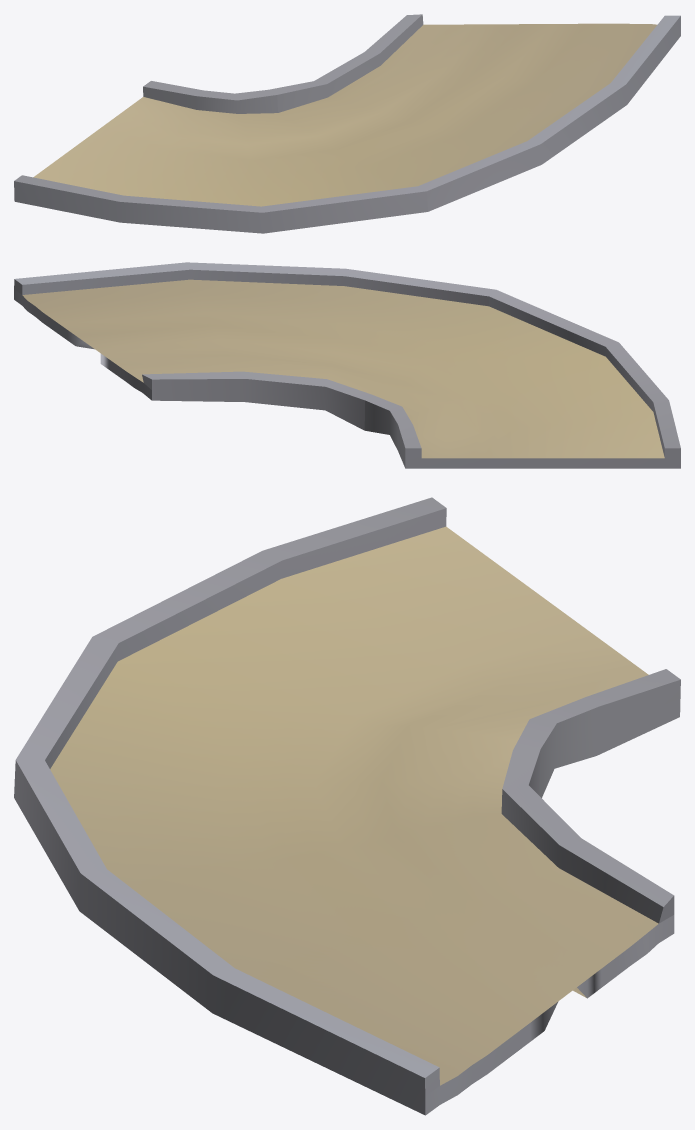
Rendered from sidewalk_05.fbx.
3 views of the same model, one above another, from view 1: azimuth 30°, elevation 25°; view 2: azimuth 150°, elevation 25°; view 3: azimuth 270°, elevation 25° (orthographic). The views are drawn at different scales.
Visible parts, largest first — view 1: sidewalk_04; view 2: sidewalk_04; view 3: sidewalk_04.
Boxes of the visible parts, box(x1,y1,x2,y2) form: sidewalk_04: box(14, 14, 680, 233); sidewalk_04: box(14, 262, 680, 468); sidewalk_04: box(14, 497, 680, 1115).
Size of the model in its own units: 0.9178 by 0.0486 by 0.4389.
Materials: 1 (1 with a texture image).
